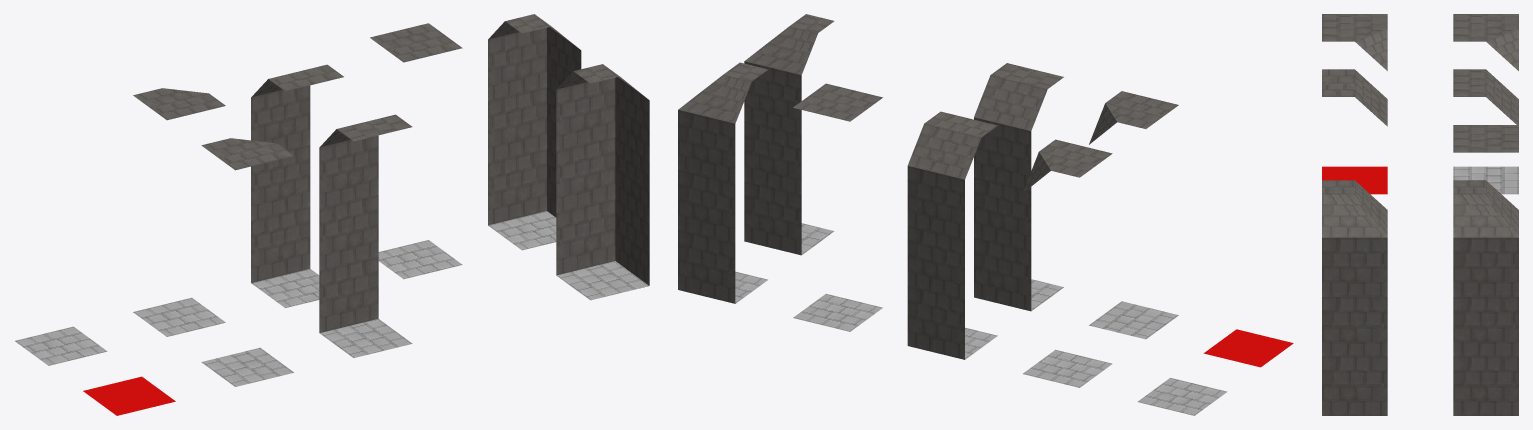
Rendered from tilemap.glb.
3 views of the same model, side by side, from view 1: azimuth 30°, elevation 25°; view 2: azimuth 150°, elevation 25°; view 3: azimuth 270°, elevation 25° (orthographic). The views are drawn at different scales.
Parts seen in each view (by area): view 1: corner-in-rev-col, corner-in-col, wall-simple-rev-col, wall-simple-col, floor-col, corner-out-col, corner-out-rev-col, floor-opened-col, connector-col; view 2: wall-simple-col, wall-simple-rev-col, corner-in-col, corner-in-rev-col, corner-out-col, corner-out-rev-col, floor-col, floor-opened-col, connector-col; view 3: corner-in-col, corner-in-rev-col, corner-out-rev-col, corner-out-col, wall-simple-rev-col, wall-simple-col, floor-col, connector-col, floor-opened-col.
Part boxes in pixels (x1,y1,x2,y2): corner-in-rev-col: (556,64,649,300); corner-in-col: (488,14,581,250); wall-simple-rev-col: (319,114,412,357); wall-simple-col: (251,64,343,307); floor-col: (370,23,462,279); corner-out-col: (133,88,225,336); corner-out-rev-col: (201,138,293,386); floor-opened-col: (15,326,107,365); connector-col: (83,376,175,415); wall-simple-col: (907,111,997,359); wall-simple-rev-col: (974,63,1063,311); corner-in-col: (678,62,768,303); corner-in-rev-col: (744,14,834,255); corner-out-col: (1023,139,1112,387); corner-out-rev-col: (1089,91,1178,339); floor-col: (793,83,882,331); floor-opened-col: (1137,378,1227,415); connector-col: (1203,329,1293,367); corner-in-col: (1453,180,1518,415); corner-in-rev-col: (1322,180,1387,415); corner-out-rev-col: (1322,14,1387,70); corner-out-col: (1453,14,1518,70); wall-simple-rev-col: (1322,69,1387,126); wall-simple-col: (1453,69,1518,124); floor-col: (1453,125,1518,152); connector-col: (1322,166,1387,194); floor-opened-col: (1453,166,1518,194).
Size of the model in its own units: 9 by 3.5 by 3.
2 materials, 1 textured.
